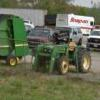Tractor: (27, 10, 92, 76)
